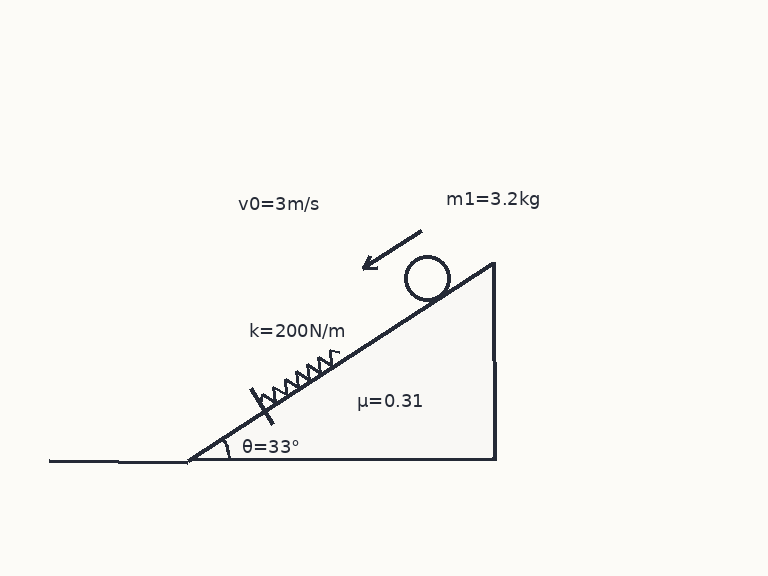ball: (402, 253, 452, 303)
ramp: (187, 261, 495, 462)
spring: (258, 348, 341, 405)
